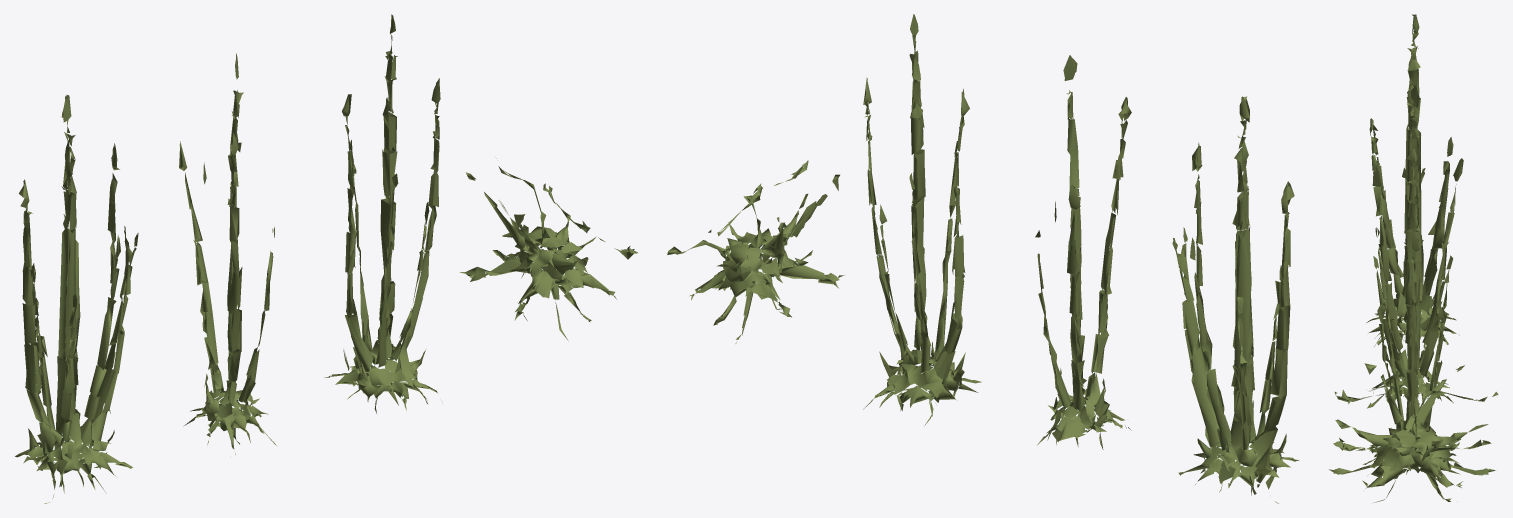
The model's file is Hyper3D_jointed_plant.glb.
3 views of the same model, side by side, from view 1: azimuth 30°, elevation 25°; view 2: azimuth 150°, elevation 25°; view 3: azimuth 270°, elevation 25° (orthographic). The views are drawn at different scales.
Visible parts, largest first — view 1: Hyper3D_jointed_plant; view 2: Hyper3D_jointed_plant; view 3: Hyper3D_jointed_plant.
Boxes of the visible parts, x1=… form: Hyper3D_jointed_plant: x1=15, y1=14, x2=637, y2=503; Hyper3D_jointed_plant: x1=667, y1=14, x2=1299, y2=503; Hyper3D_jointed_plant: x1=1329, y1=14, x2=1498, y2=502.
Size of the model in its own units: 1.87 by 1.23 by 0.5611.
